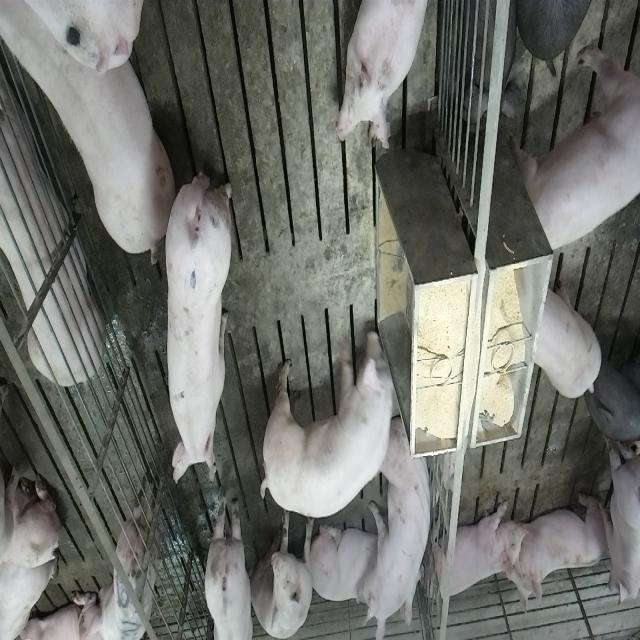Sitting: (360, 422, 438, 640), (251, 520, 316, 640)
Standing: (514, 37, 638, 255), (259, 330, 399, 522), (163, 162, 233, 486), (99, 478, 161, 638), (532, 279, 602, 402), (200, 486, 252, 638), (588, 322, 640, 450), (606, 438, 640, 614)
Sternal_lying: (0, 57, 102, 391), (336, 0, 434, 151), (510, 490, 610, 604), (424, 499, 526, 609), (310, 520, 390, 616)
